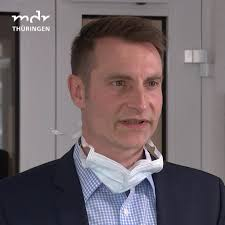mask_weared_incorrect: (91, 66, 164, 178)
